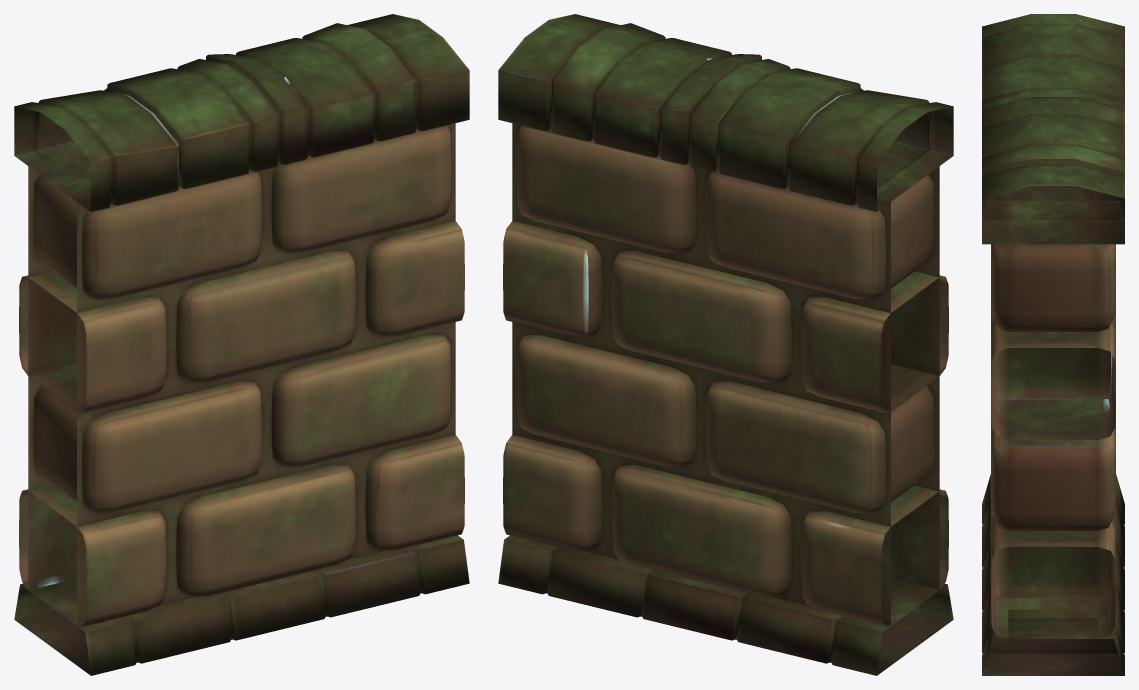
The model's file is ParedGrande.fbx.
3 renders of one model, left to right at view 1: azimuth 30°, elevation 25°; view 2: azimuth 150°, elevation 25°; view 3: azimuth 270°, elevation 25°, orthographic. The views are drawn at different scales.
Visible parts, largest first — view 1: Wall.009; view 2: Wall.009; view 3: Wall.009.
Part boxes in pixels (left/top/right/bottom): Wall.009: left=14, top=14, right=469, bottom=675; Wall.009: left=498, top=14, right=953, bottom=675; Wall.009: left=982, top=14, right=1124, bottom=675.
Size of the model in its own units: 4 by 5.36 by 1.41.
